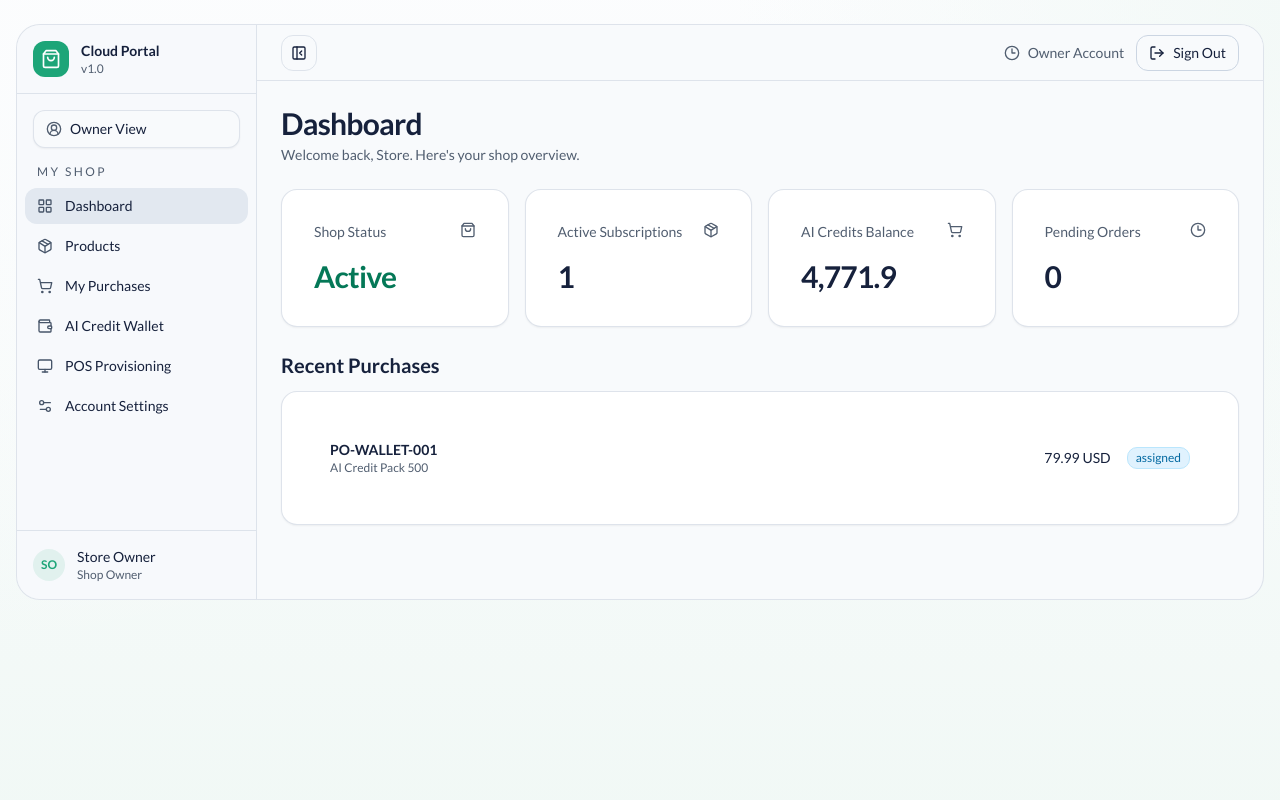
Test: Account page credentials-only commerce flow › shows AI credit wallet with balance and recent purchase and spending transactions
This screenshot has width=1280, height=800.
Step 1. Click the button "AI Credit Wallet" → (136, 326), box [25,308,248,344]
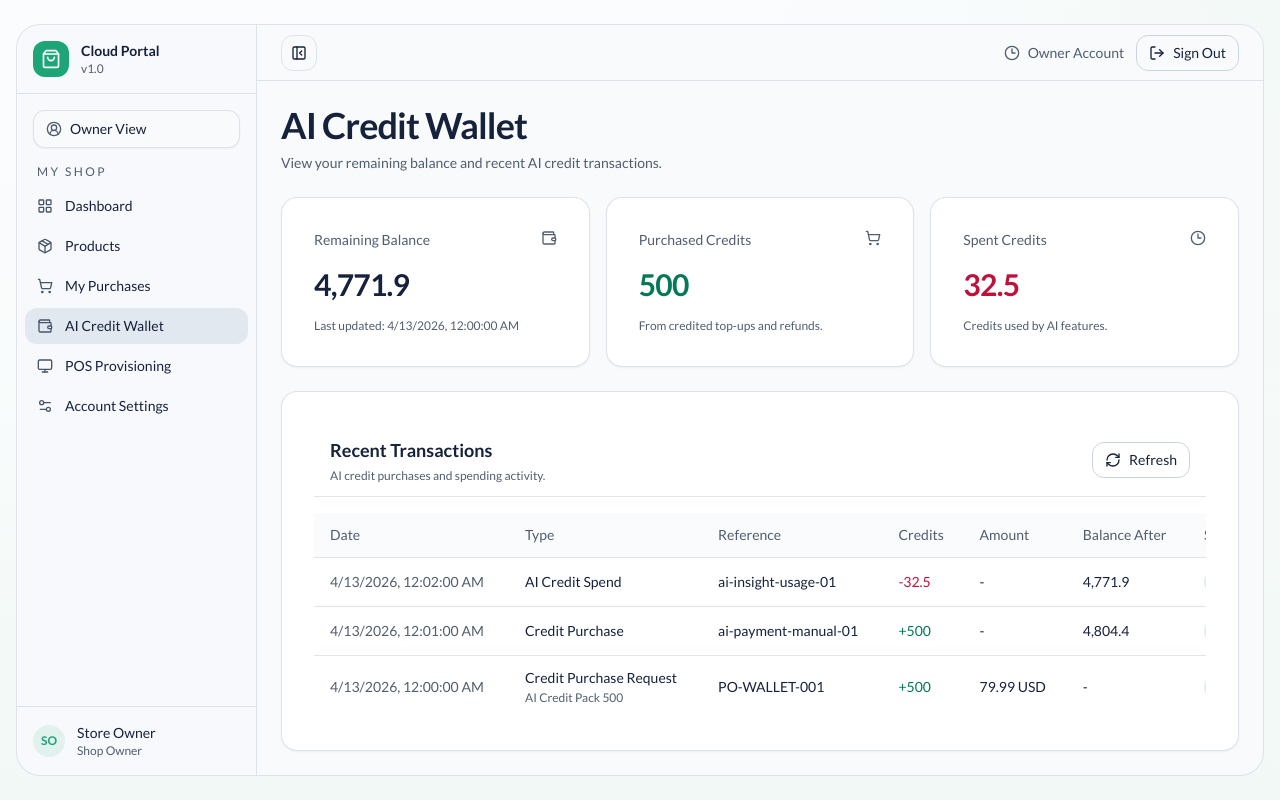
Now the text "remaining balance" is shown, box [281,154,662,171]
Now the text "AI Credit Spend" is shown, box [525,573,622,590]
Now the text "credit purchase" is shown, box [330,468,545,483]
